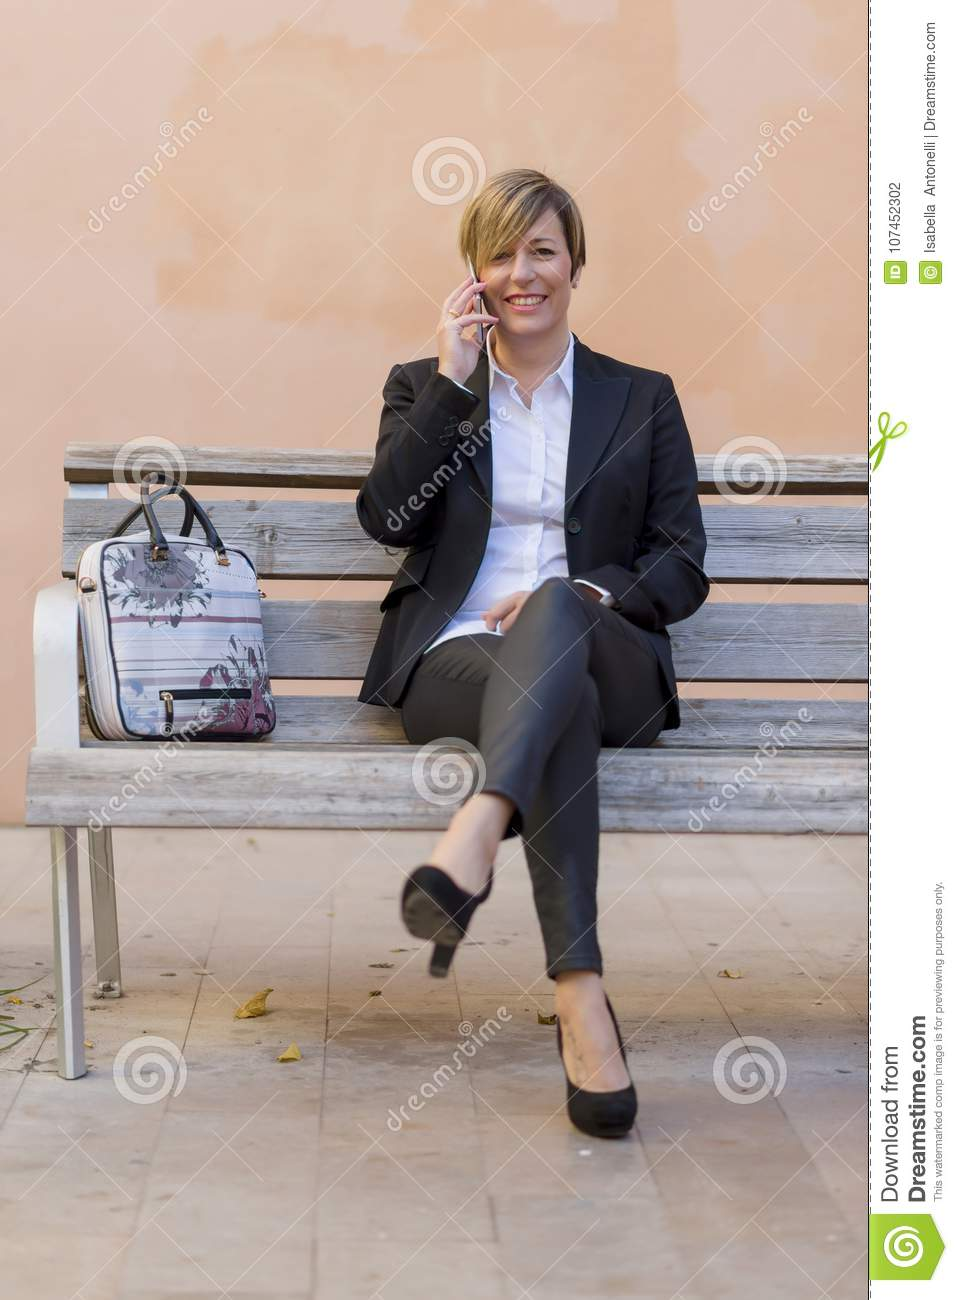phone: (465, 244, 487, 347)
talk: (437, 234, 565, 374)
